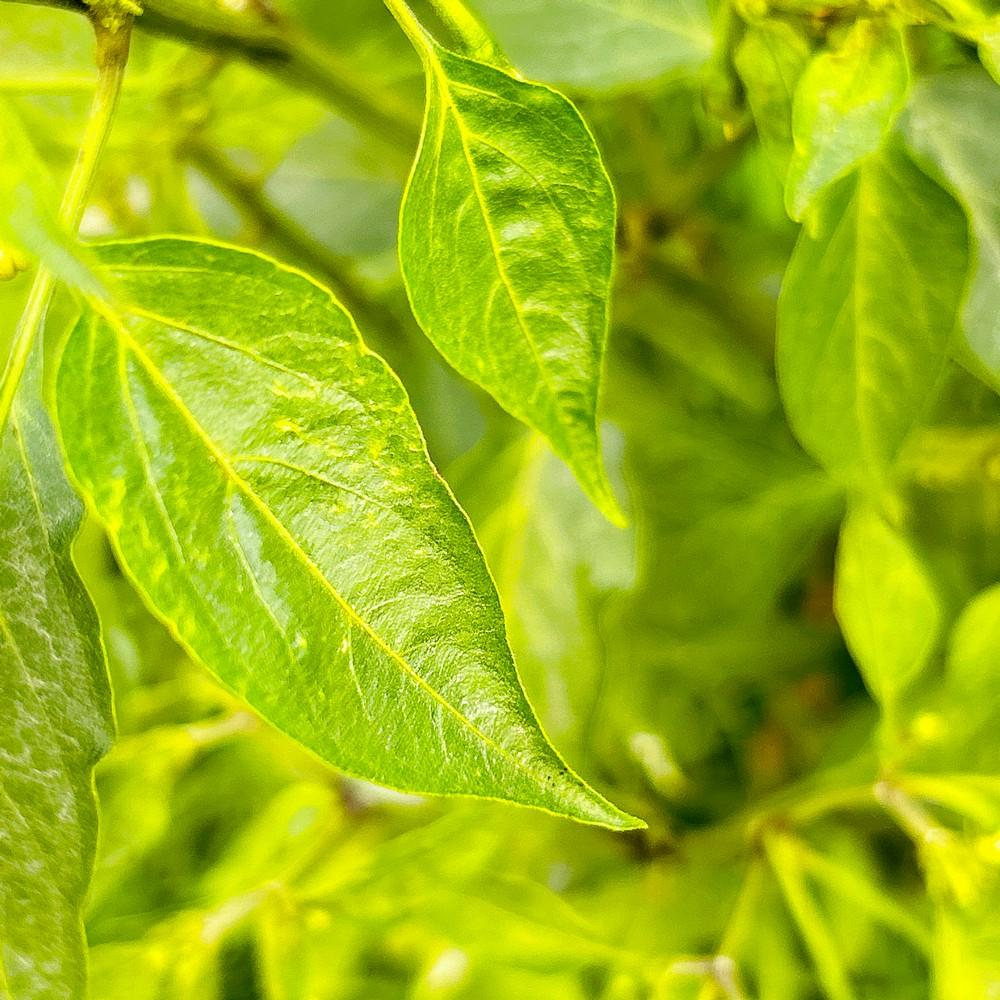Daun Cabai Sehat: (41, 230, 650, 833), (382, 0, 630, 529)
